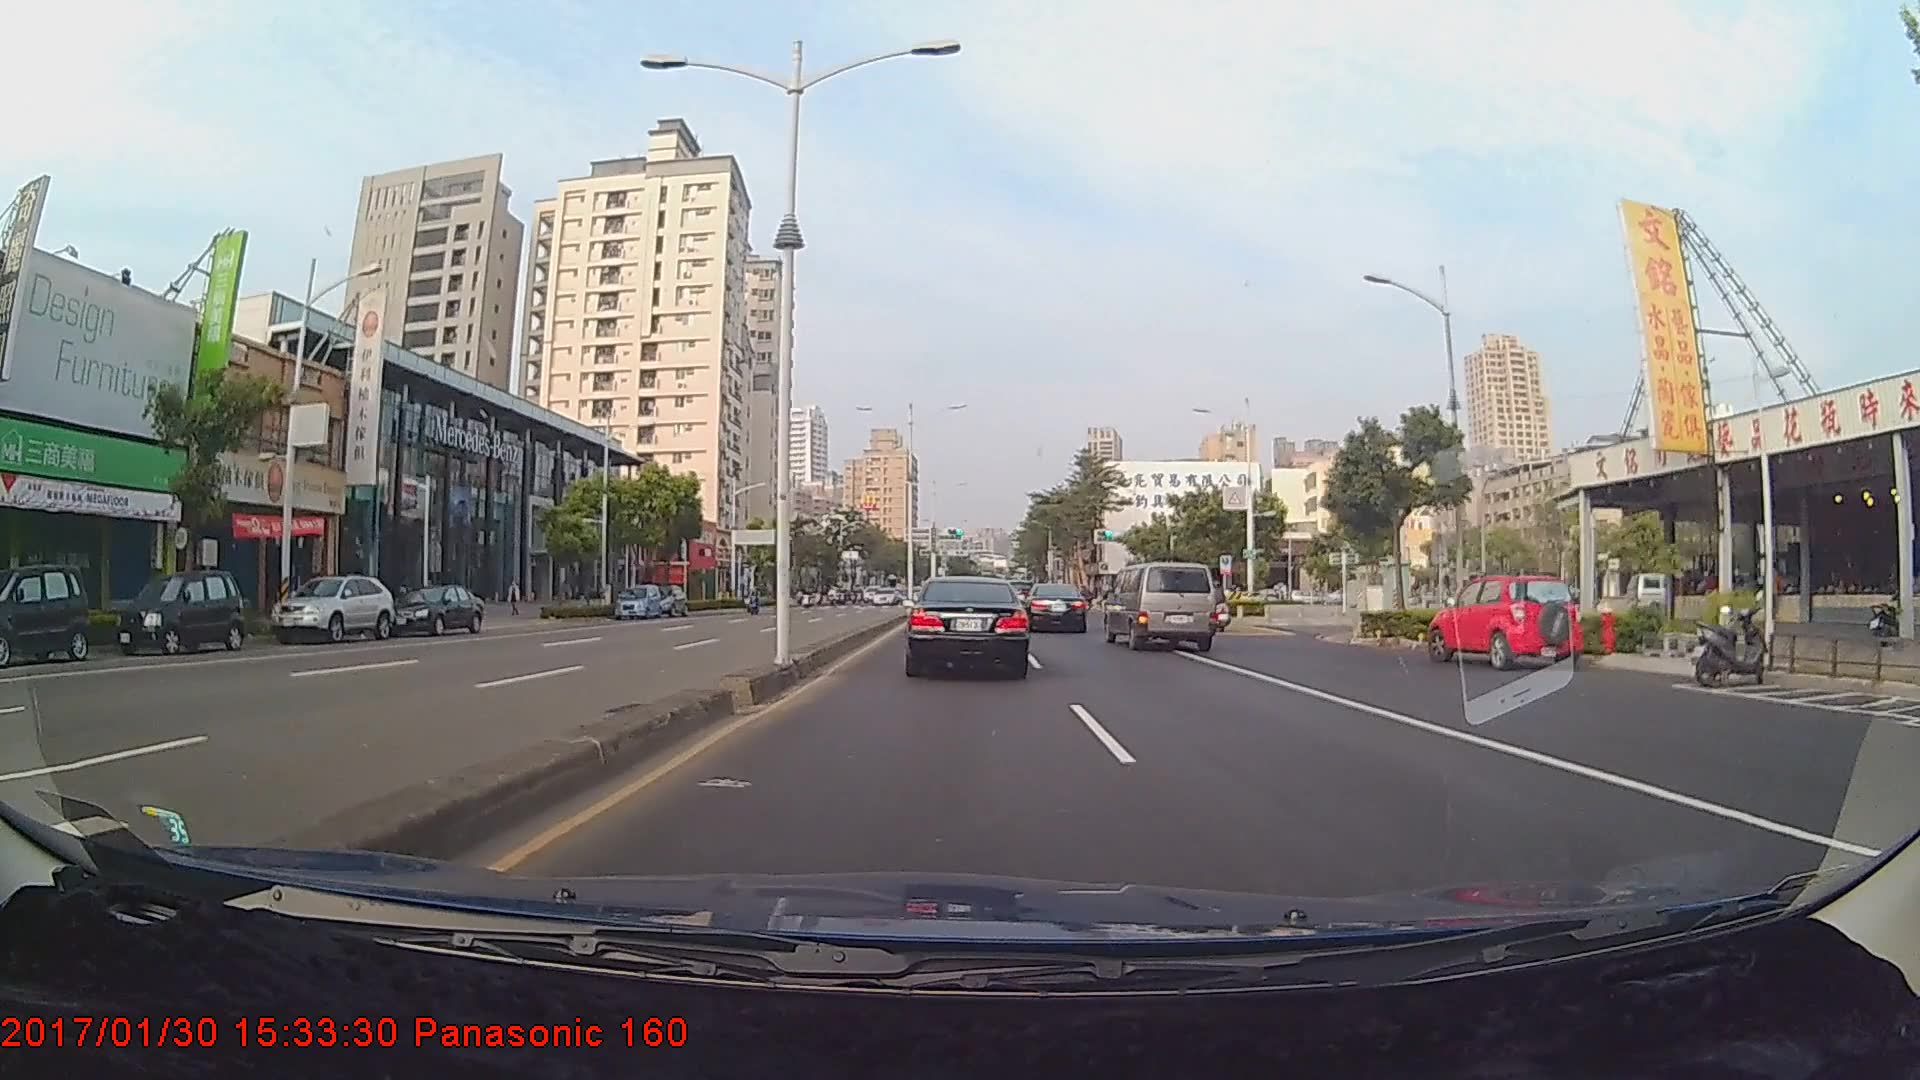vehicle: (1435, 572, 1575, 671), (906, 574, 1030, 676), (1104, 560, 1217, 651), (0, 562, 88, 671), (268, 574, 393, 644), (161, 572, 247, 653), (390, 583, 483, 637), (1026, 583, 1089, 634), (615, 582, 662, 621), (647, 585, 688, 618)
